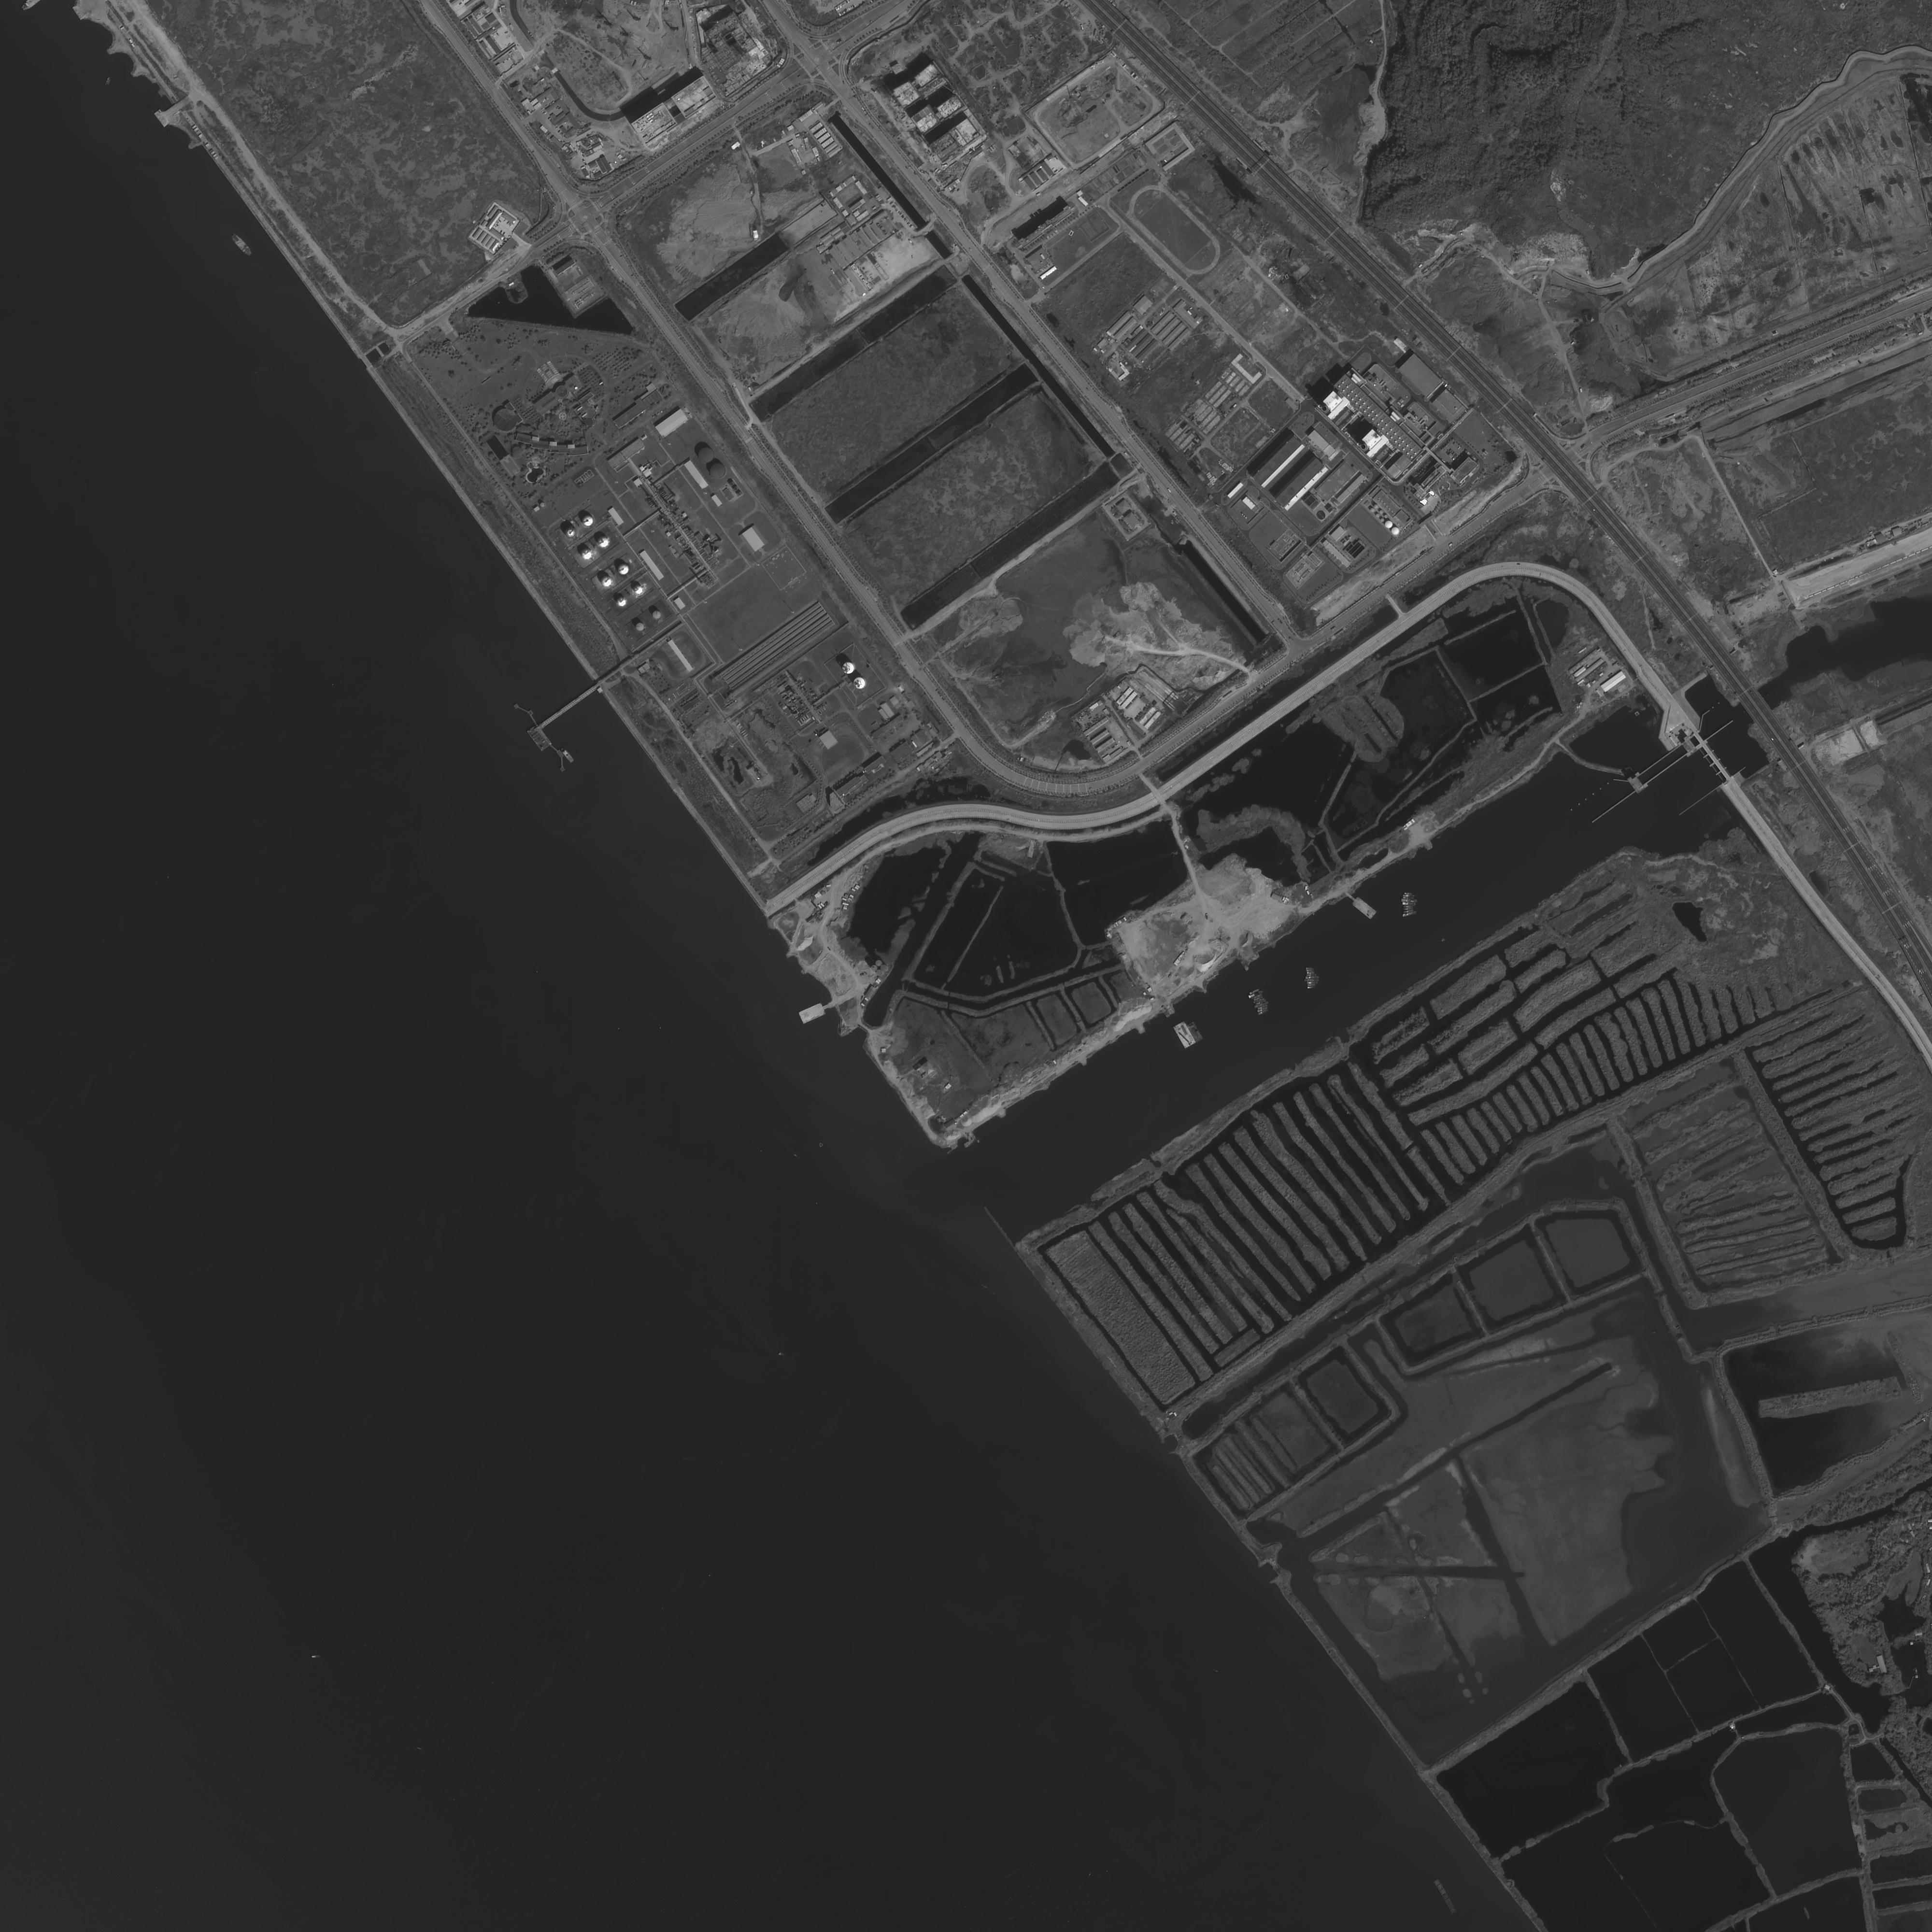harbor: (1341, 890, 1376, 920), (798, 998, 837, 1024), (527, 724, 552, 754)
ship: (1435, 1879, 1458, 1914), (1173, 1021, 1196, 1047), (230, 232, 253, 257), (1187, 1023, 1203, 1042), (559, 747, 575, 764), (1247, 989, 1263, 1000), (1254, 1001, 1269, 1008), (1253, 998, 1265, 1005), (1258, 1008, 1269, 1016), (1256, 1007, 1269, 1012), (1258, 1005, 1269, 1010), (1256, 1000, 1267, 1005), (1253, 994, 1263, 1000), (1249, 989, 1260, 994), (1254, 996, 1263, 1001), (311, 1654, 320, 1658)
